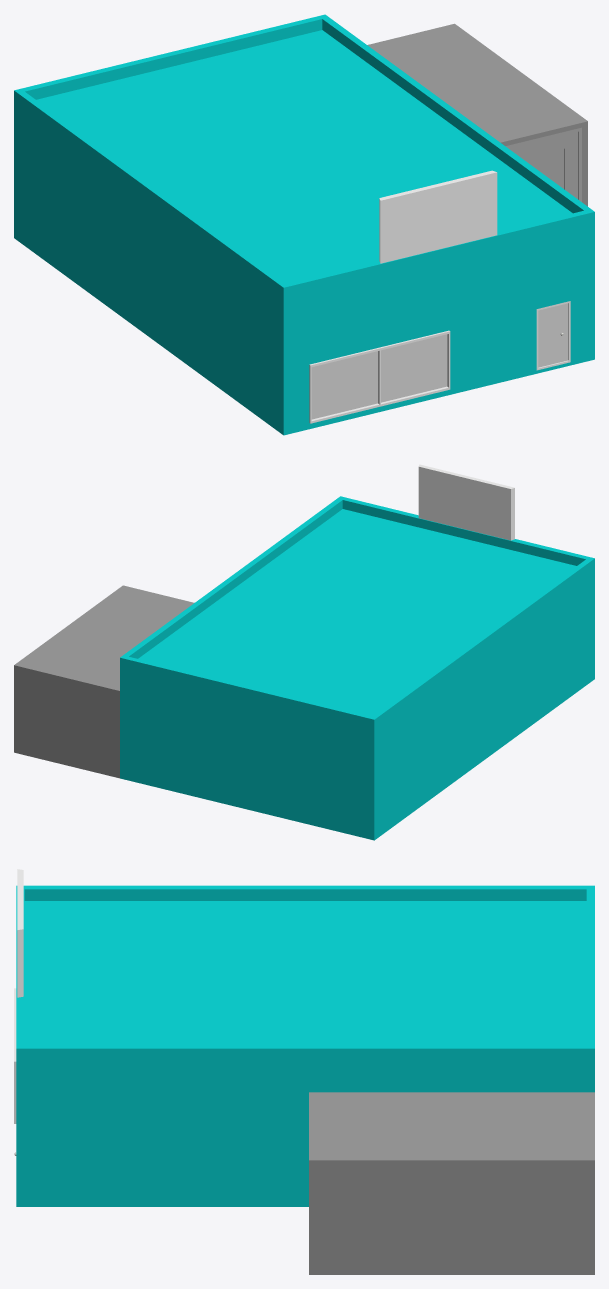
The model's file is Shop_1.fbx.
3 views of the same model, one above another, from view 1: azimuth 30°, elevation 25°; view 2: azimuth 150°, elevation 25°; view 3: azimuth 270°, elevation 25° (orthographic). The views are drawn at different scales.
Parts seen in each view (by area): view 1: Shop_1_Body, Shop_1_Window, Shop_1_BodyDoor_2, Shop_1_Door; view 2: Shop_1_Body; view 3: Shop_1_Body.
Boxes of the visible parts, <box> form: Shop_1_Body: <box>14,14,594,435</box>; Shop_1_Window: <box>311,334,447,419</box>; Shop_1_BodyDoor_2: <box>505,127,581,201</box>; Shop_1_Door: <box>536,301,570,370</box>; Shop_1_Body: <box>14,464,594,840</box>; Shop_1_Body: <box>14,869,594,1274</box>.
Size of the model in its own units: 1430 by 653 by 1522.
